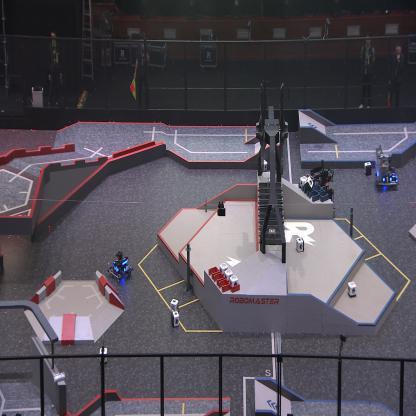car: (307, 162, 336, 220), (375, 147, 399, 190), (108, 249, 134, 281)
